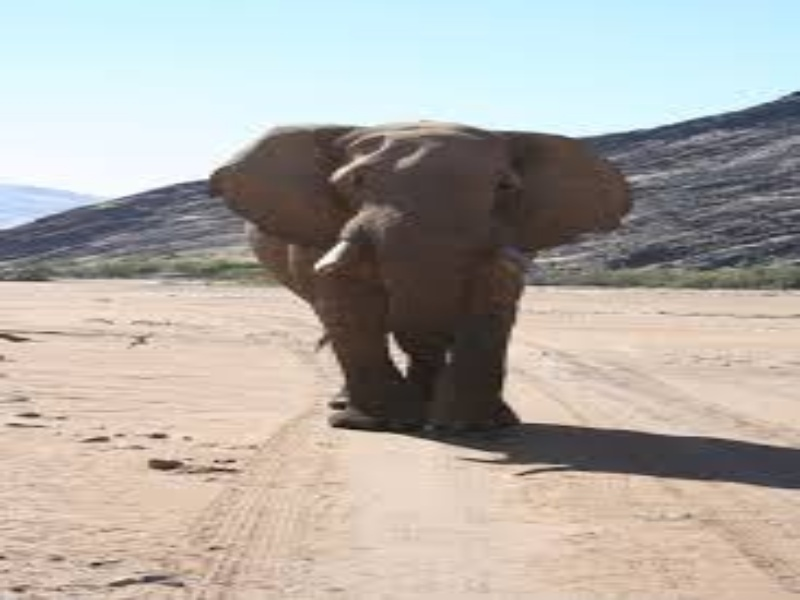elephant: (202, 103, 666, 443)
